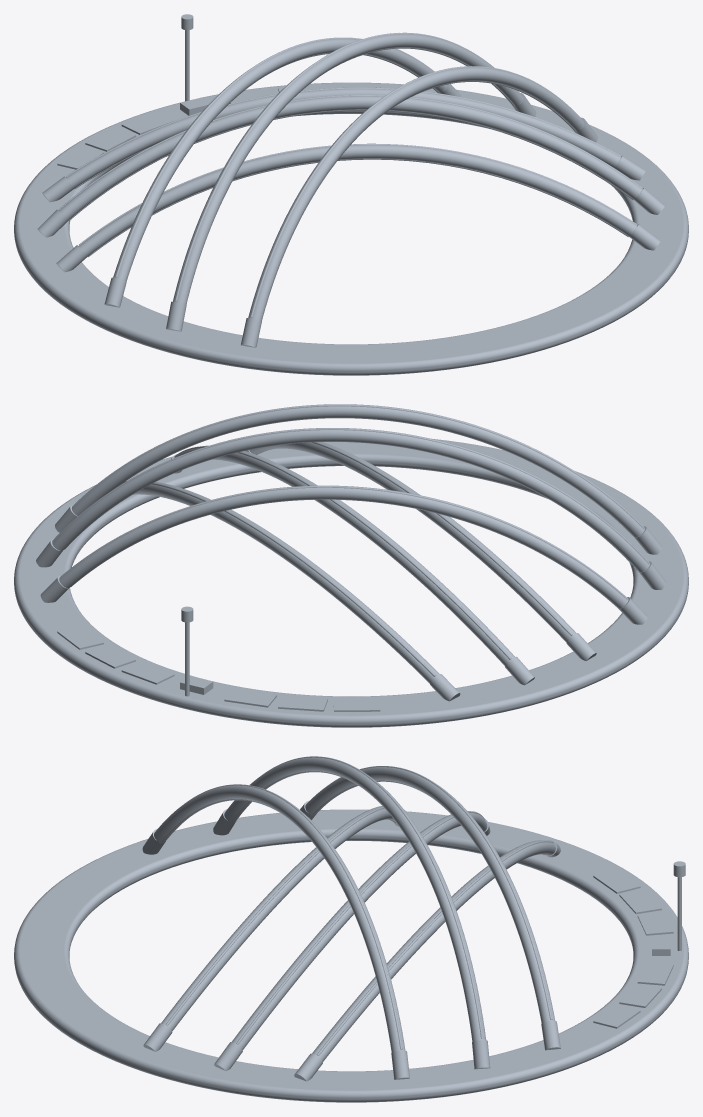
The model's file is waterline-rim-weave-r4.glb.
3 renders of one model, top to bottom at view 1: azimuth 30°, elevation 25°; view 2: azimuth 150°, elevation 25°; view 3: azimuth 270°, elevation 25°, orthographic.
Parts seen in each view (by area): view 1: Float, Rib 5 Air, Rib 1 Warmth, Rib 4 Time, Rib 3 Water, Rib 2 Leaf, Rib 6 Sweetness, Light strip top 3 Water, Light strip top 4 Time, Light strip top 2 Leaf, Light strip top 5 Air, Light strip under 5 Air (+6 smaller); view 2: Float, Rib 3 Water, Rib 4 Time, Rib 2 Leaf, Rib 5 Air, Rib 6 Sweetness, Rib 1 Warmth, Light strip top 3 Water, Light strip top 4 Time, Light strip top 2 Leaf, Light strip top 5 Air, Light strip top 6 Sweetness (+7 smaller); view 3: Float, Rib 3 Water, Rib 4 Time, Rib 2 Leaf, Rib 5 Air, Rib 1 Warmth, Rib 6 Sweetness, Light strip top 3 Water, Light strip top 4 Time, Light strip top 5 Air, Light strip top 2 Leaf, Light strip top 1 Warmth (+7 smaller).
Part boxes in pixels (bbox=[...]): Float: bbox=[14, 82, 688, 375]; Rib 5 Air: bbox=[38, 96, 642, 236]; Rib 1 Warmth: bbox=[78, 145, 637, 256]; Rib 4 Time: bbox=[241, 67, 584, 347]; Rib 3 Water: bbox=[167, 34, 523, 331]; Rib 2 Leaf: bbox=[105, 38, 447, 306]; Rib 6 Sweetness: bbox=[43, 88, 621, 200]; Light strip top 3 Water: bbox=[175, 32, 494, 300]; Light strip top 4 Time: bbox=[250, 66, 571, 316]; Light strip top 2 Leaf: bbox=[115, 37, 434, 276]; Light strip top 5 Air: bbox=[59, 95, 642, 209]; Light strip under 5 Air: bbox=[68, 109, 633, 220]; Float: bbox=[14, 439, 688, 727]; Rib 3 Water: bbox=[52, 428, 649, 572]; Rib 4 Time: bbox=[72, 404, 644, 537]; Rib 2 Leaf: bbox=[59, 485, 628, 608]; Rib 5 Air: bbox=[174, 445, 534, 684]; Rib 6 Sweetness: bbox=[122, 482, 459, 700]; Rib 1 Warmth: bbox=[249, 442, 576, 642]; Light strip top 3 Water: bbox=[52, 428, 649, 563]; Light strip top 4 Time: bbox=[72, 404, 644, 528]; Light strip top 2 Leaf: bbox=[59, 486, 627, 599]; Light strip top 5 Air: bbox=[174, 446, 511, 659]; Light strip top 6 Sweetness: bbox=[123, 481, 435, 676]; Float: bbox=[14, 809, 688, 1102]; Rib 3 Water: bbox=[224, 757, 488, 1069]; Rib 4 Time: bbox=[154, 785, 405, 1052]; Rib 2 Leaf: bbox=[305, 767, 559, 1050]; Rib 5 Air: bbox=[215, 811, 487, 1070]; Rib 1 Warmth: bbox=[144, 806, 396, 1051]; Rib 6 Sweetness: bbox=[295, 840, 555, 1080]; Light strip top 3 Water: bbox=[265, 756, 483, 1038]; Light strip top 4 Time: bbox=[189, 784, 402, 1049]; Light strip top 5 Air: bbox=[236, 811, 484, 1044]; Light strip top 2 Leaf: bbox=[330, 766, 552, 1019]; Light strip top 1 Warmth: bbox=[166, 807, 384, 1025].
Size of the model in its own units: 7.3 by 2.05 by 7.3.
